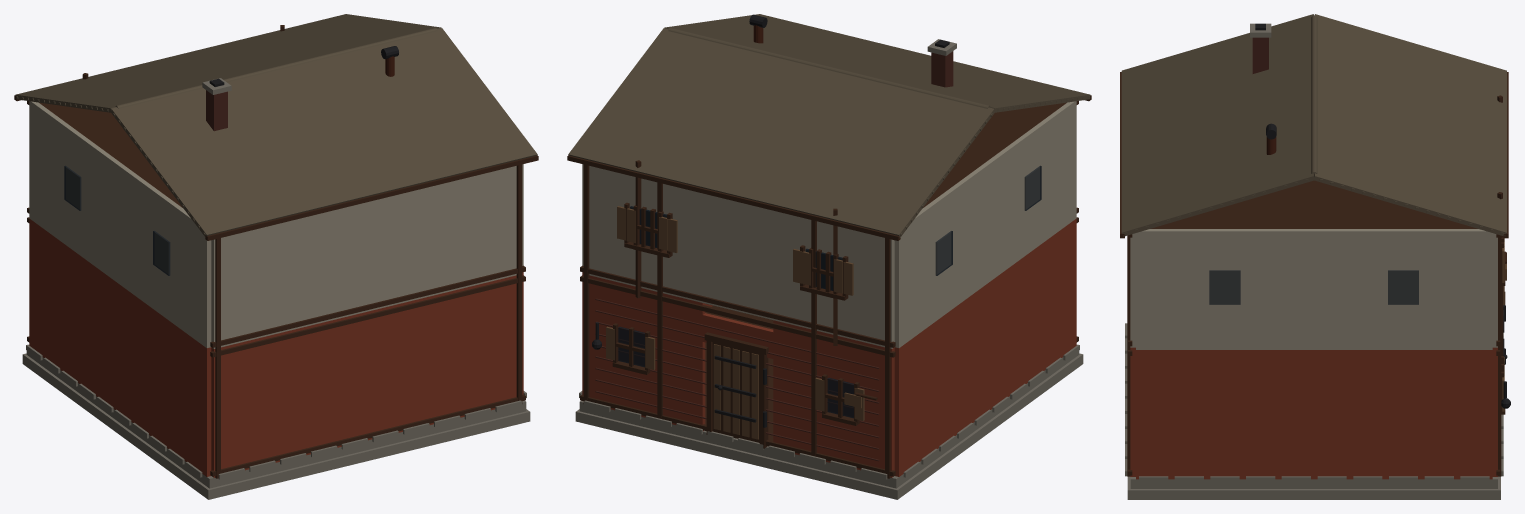
Rendered from GalakasMidCity_CornerHouse_W06D06_F01_R01U01L01_A01.obj.
3 views of the same model, side by side, from view 1: azimuth 30°, elevation 25°; view 2: azimuth 150°, elevation 25°; view 3: azimuth 270°, elevation 25° (orthographic).
Parts seen in each view (by area): view 1: GalakasMidCity_CornerHouse_W06D06_F01_R01U01L01_A01_roof_back_sl, GalakasMidCity_CornerHouse_W06D06_F01_R01U01L01_A01_lower_back_w, GalakasMidCity_CornerHouse_W06D06_F01_R01U01L01_A01_upper1_back_, GalakasMidCity_CornerHouse_W06D06_F01_R01U01L01_A01_lower_left_w, GalakasMidCity_CornerHouse_W06D06_F01_R01U01L01_A01_upper1_left_, GalakasMidCity_CornerHouse_W06D06_F01_R01U01L01_A01_roof_front_s, stone_plinth_base, GalakasMidCity_CornerHouse_W06D06_F01_R01U01L01_A01_lower_back_c, stone_plinth_raised, GalakasMidCity_CornerHouse_W06D06_F01_R01U01L01_A01_upper1_ceili, GalakasMidCity_CornerHouse_W06D06_F01_R01U01L01_A01_roof_back_ea, GalakasMidCity_CornerHouse_W06D06_F01_R01U01L01_A01_lower_back_p (+2 smaller); view 2: GalakasMidCity_CornerHouse_W06D06_F01_R01U01L01_A01_roof_front_s, GalakasMidCity_CornerHouse_W06D06_F01_R01U01L01_A01_upper1_front, GalakasMidCity_CornerHouse_W06D06_F01_R01U01L01_A01_lower_front_, GalakasMidCity_CornerHouse_W06D06_F01_R01U01L01_A01_lower_left_w, GalakasMidCity_CornerHouse_W06D06_F01_R01U01L01_A01_upper1_left_, GalakasMidCity_CornerHouse_W06D06_F01_R01U01L01_A01_roof_back_sl, stone_plinth_base, GalakasMidCity_CornerHouse_W06D06_F01_R01U01L01_A01_lower_main_d, GalakasMidCity_CornerHouse_W06D06_F01_R01U01L01_A01_brick_front_, stone_plinth_raised, GalakasMidCity_CornerHouse_W06D06_F01_R01U01L01_A01_upper1_ceili, GalakasMidCity_CornerHouse_W06D06_F01_R01U01L01_A01_upper1_upper (+5 smaller); view 3: GalakasMidCity_CornerHouse_W06D06_F01_R01U01L01_A01_lower_right_, GalakasMidCity_CornerHouse_W06D06_F01_R01U01L01_A01_upper1_right, GalakasMidCity_CornerHouse_W06D06_F01_R01U01L01_A01_roof_front_s, GalakasMidCity_CornerHouse_W06D06_F01_R01U01L01_A01_roof_back_sl, GalakasMidCity_CornerHouse_W06D06_F01_R01U01L01_A01_upper1_ceili, stone_plinth_base, stone_plinth_raised, GalakasMidCity_CornerHouse_W06D06_F01_R01U01L01_A01_lower_front_, GalakasMidCity_CornerHouse_W06D06_F01_R01U01L01_A01_upper1_front, GalakasMidCity_CornerHouse_W06D06_F01_R01U01L01_A01_roof_ridge_c, GalakasMidCity_CornerHouse_W06D06_F01_R01U01L01_A01_upper1_back_, GalakasMidCity_CornerHouse_W06D06_F01_R01U01L01_A01_chimney_bric (+2 smaller).
Part boxes in pixels (x1,y1,x2,y2): GalakasMidCity_CornerHouse_W06D06_F01_R01U01L01_A01_roof_back_sl: (111,28,537,236); GalakasMidCity_CornerHouse_W06D06_F01_R01U01L01_A01_lower_back_w: (211,275,516,477); GalakasMidCity_CornerHouse_W06D06_F01_R01U01L01_A01_upper1_back_: (210,164,525,349); GalakasMidCity_CornerHouse_W06D06_F01_R01U01L01_A01_lower_left_w: (29,218,211,476); GalakasMidCity_CornerHouse_W06D06_F01_R01U01L01_A01_upper1_left_: (29,101,211,347); GalakasMidCity_CornerHouse_W06D06_F01_R01U01L01_A01_roof_front_s: (15,14,441,112); stone_plinth_base: (22,353,530,499); GalakasMidCity_CornerHouse_W06D06_F01_R01U01L01_A01_lower_back_c: (210,275,525,476); stone_plinth_raised: (26,344,526,488); GalakasMidCity_CornerHouse_W06D06_F01_R01U01L01_A01_upper1_ceili: (39,102,182,207); GalakasMidCity_CornerHouse_W06D06_F01_R01U01L01_A01_roof_back_ea: (205,155,538,240); GalakasMidCity_CornerHouse_W06D06_F01_R01U01L01_A01_lower_back_p: (215,275,522,478); GalakasMidCity_CornerHouse_W06D06_F01_R01U01L01_A01_roof_front_s: (568,28,994,237); GalakasMidCity_CornerHouse_W06D06_F01_R01U01L01_A01_upper1_front: (580,164,895,349); GalakasMidCity_CornerHouse_W06D06_F01_R01U01L01_A01_lower_front_: (580,275,895,478); GalakasMidCity_CornerHouse_W06D06_F01_R01U01L01_A01_lower_left_w: (894,218,1076,476); GalakasMidCity_CornerHouse_W06D06_F01_R01U01L01_A01_upper1_left_: (894,101,1076,347); GalakasMidCity_CornerHouse_W06D06_F01_R01U01L01_A01_roof_back_sl: (664,14,1090,112); stone_plinth_base: (575,353,1083,499); GalakasMidCity_CornerHouse_W06D06_F01_R01U01L01_A01_lower_main_d: (704,332,768,448); GalakasMidCity_CornerHouse_W06D06_F01_R01U01L01_A01_brick_front_: (595,298,879,461); stone_plinth_raised: (579,344,1079,488); GalakasMidCity_CornerHouse_W06D06_F01_R01U01L01_A01_upper1_ceili: (923,102,1066,207); GalakasMidCity_CornerHouse_W06D06_F01_R01U01L01_A01_upper1_upper: (617,202,853,300); GalakasMidCity_CornerHouse_W06D06_F01_R01U01L01_A01_lower_right_: (1136,350,1492,479); GalakasMidCity_CornerHouse_W06D06_F01_R01U01L01_A01_upper1_right: (1136,229,1492,349); GalakasMidCity_CornerHouse_W06D06_F01_R01U01L01_A01_roof_front_s: (1314,14,1506,236); GalakasMidCity_CornerHouse_W06D06_F01_R01U01L01_A01_roof_back_sl: (1121,14,1314,236); GalakasMidCity_CornerHouse_W06D06_F01_R01U01L01_A01_upper1_ceili: (1150,180,1477,228); stone_plinth_base: (1127,476,1500,499); stone_plinth_raised: (1130,477,1497,488); GalakasMidCity_CornerHouse_W06D06_F01_R01U01L01_A01_lower_front_: (1492,286,1505,476); GalakasMidCity_CornerHouse_W06D06_F01_R01U01L01_A01_upper1_front: (1492,233,1505,347); GalakasMidCity_CornerHouse_W06D06_F01_R01U01L01_A01_roof_ridge_c: (1311,15,1317,174); GalakasMidCity_CornerHouse_W06D06_F01_R01U01L01_A01_upper1_back_: (1127,233,1135,347); GalakasMidCity_CornerHouse_W06D06_F01_R01U01L01_A01_chimney_bric: (1250,23,1271,73).
Bounding box in the file's own units: 12.95 × 13.1 × 13.14.
